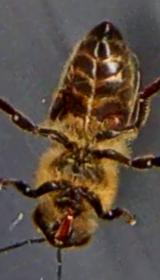varroa_mite: (94, 103, 126, 137)
